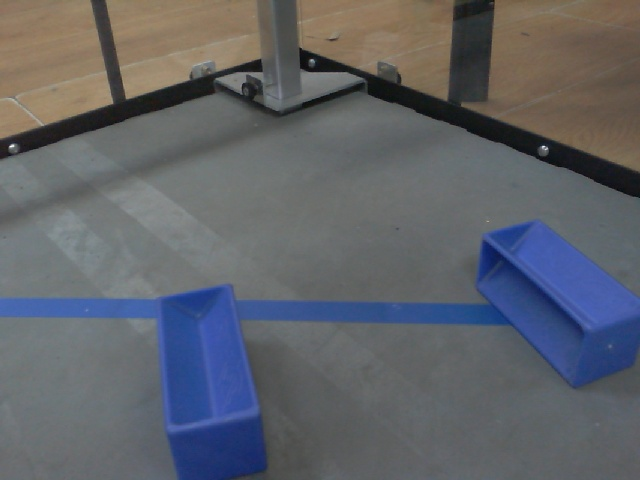BlueSample: (475, 217, 640, 395), (149, 282, 269, 480)
